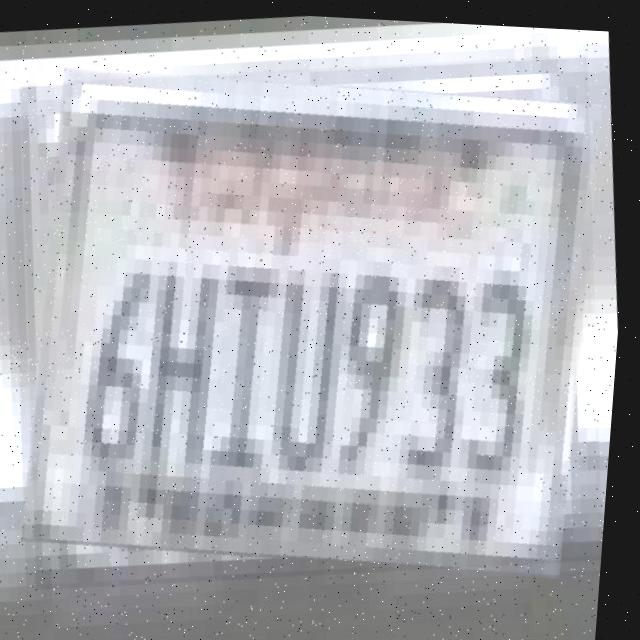LicensePlate: (0, 25, 639, 612)
